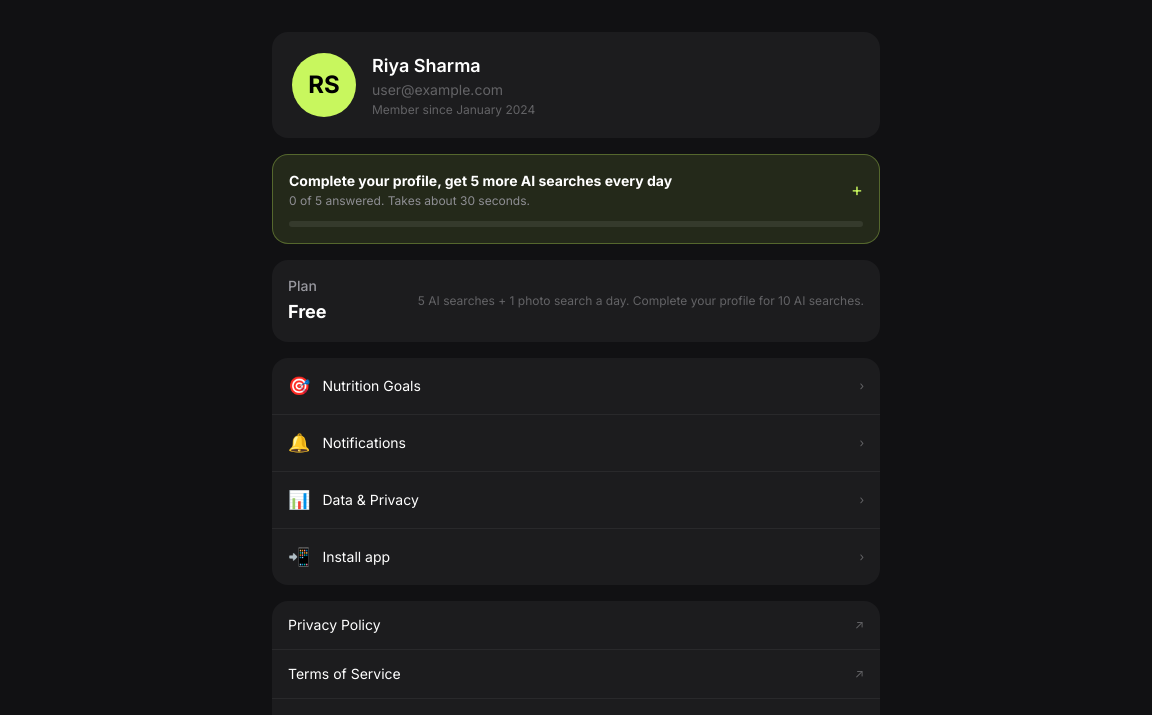
Test case: ProfileTab — settings rows › Notifications row opens NotificationsModal
Expected: the text "Riya Sharma" is shown, [372, 55, 481, 76]
What coordinates should you click on to do the following:
click the text "Notifications"
I would click on:
 (364, 442)
Its box is [322, 434, 406, 451].
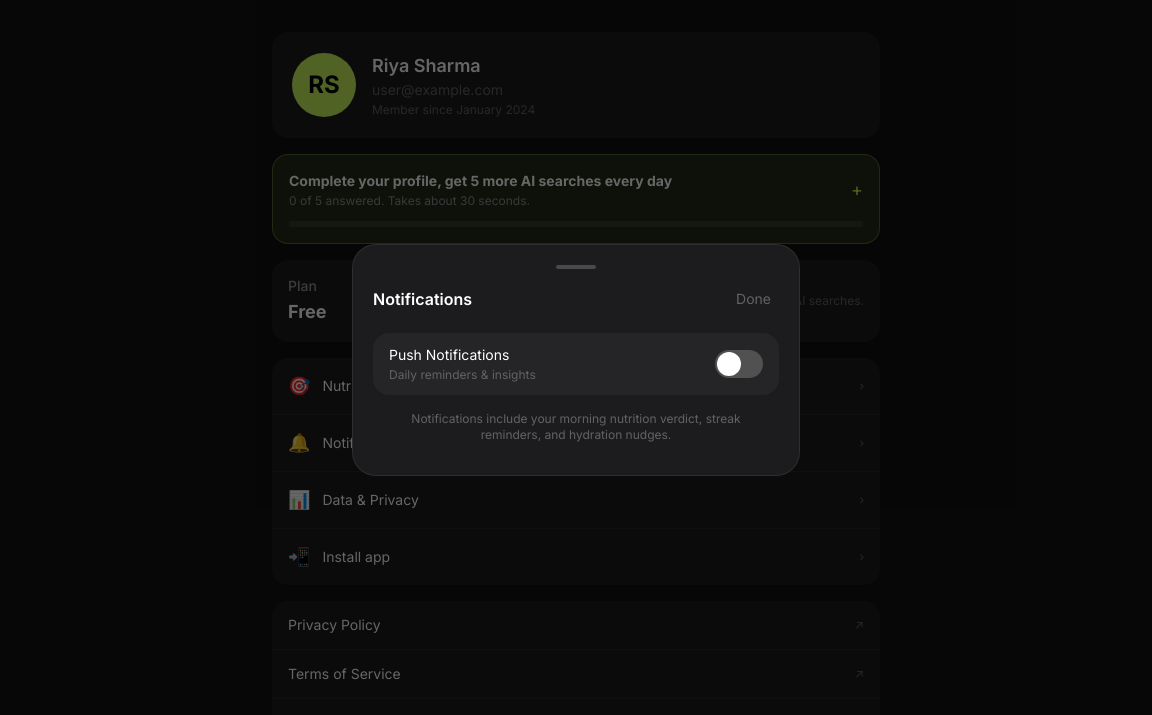
Now the text "Push Notifications" is shown, box [389, 346, 509, 363]
